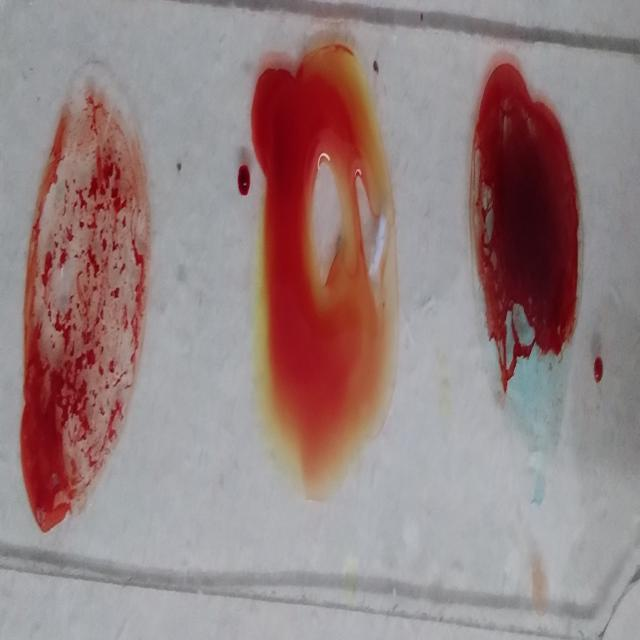A: (464, 69, 582, 448)
D: (23, 91, 144, 512)
